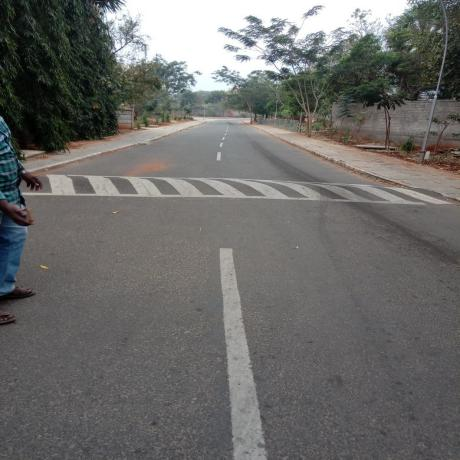Speed Bump: (44, 174, 456, 204)
